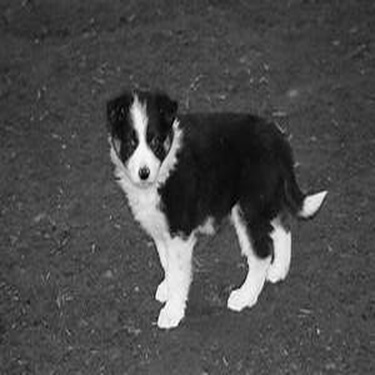dog: (103, 85, 334, 340)
